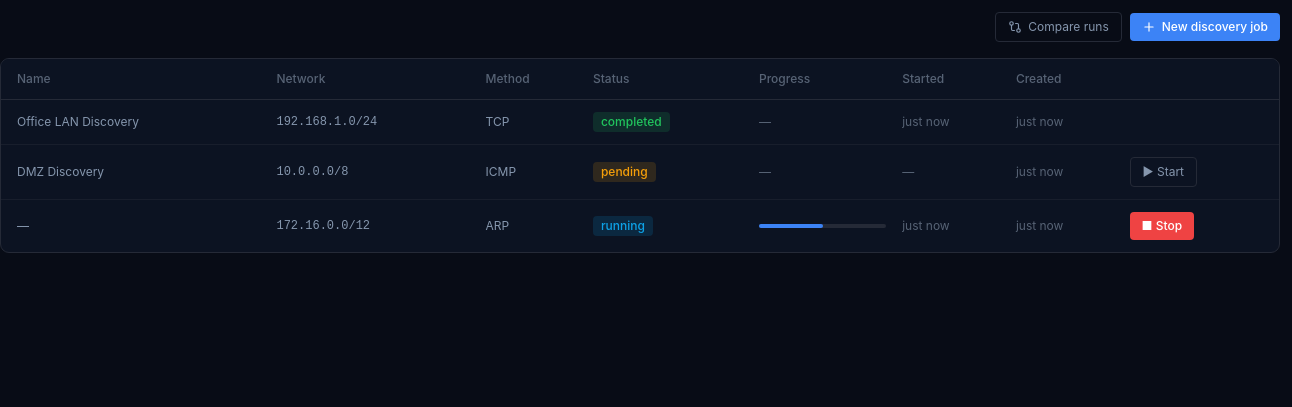
Test: DiscoveryPage › shows compare panel when Compare runs clicked
Click the button "Compare runs" at (1058, 27), box top-left (995, 12), bottom-right (1122, 42)
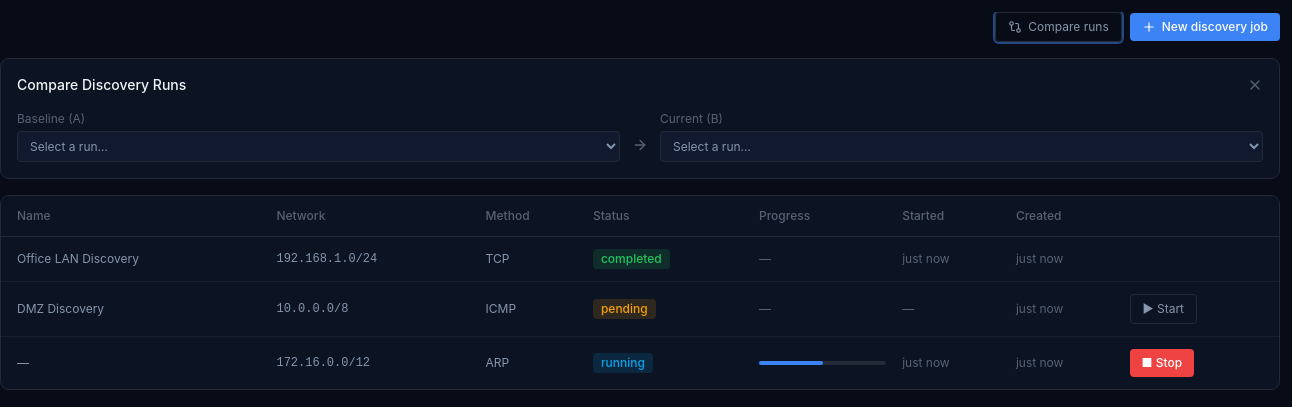
Result: the heading "Compare Discovery Runs" is shown at top-left (17, 75), bottom-right (186, 95)
